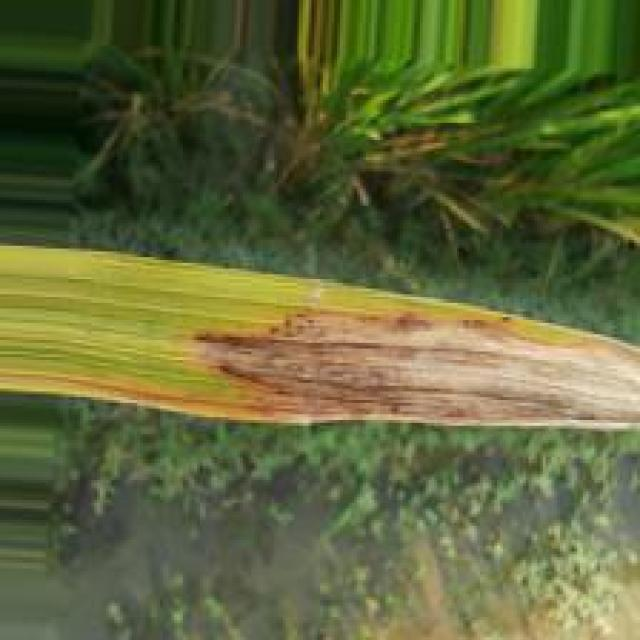Leaf_Scald: (46, 310, 639, 427)
